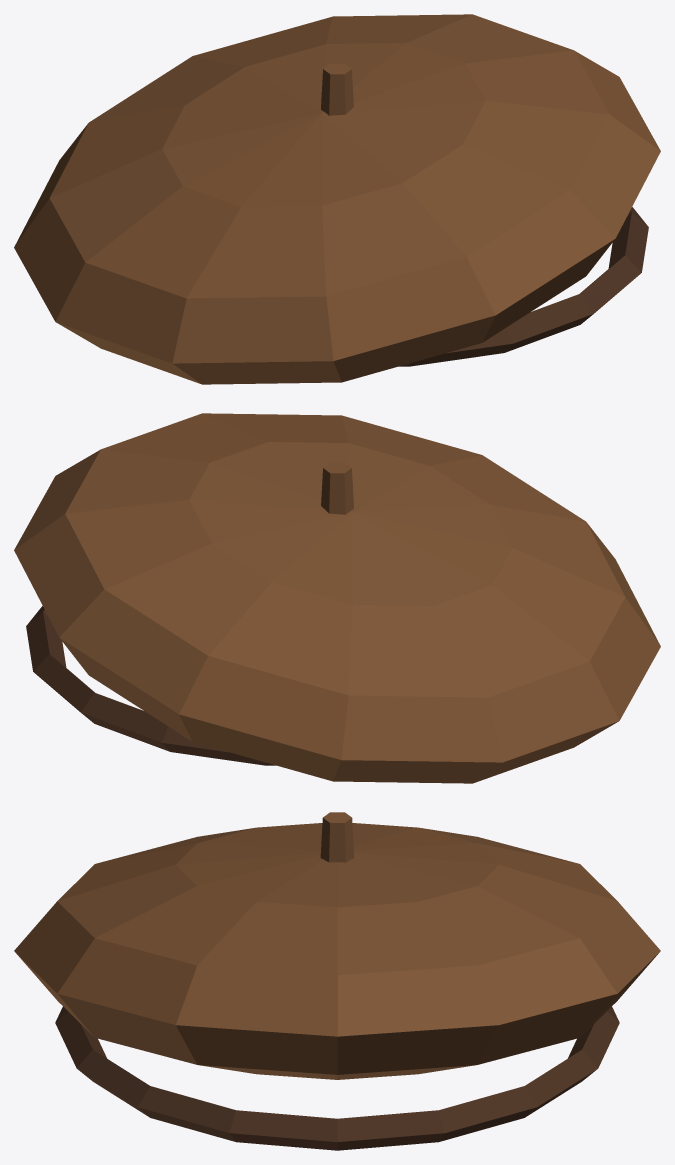
The model's file is disguise_chess_beret.glb.
3 views of the same model, one above another, from view 1: azimuth 30°, elevation 25°; view 2: azimuth 150°, elevation 25°; view 3: azimuth 270°, elevation 25° (orthographic). The views are drawn at different scales.
Parts seen in each view (by area): view 1: beret_chess_brown, band_chess_band, stalk_chess_brown; view 2: beret_chess_brown, band_chess_band, stalk_chess_brown; view 3: beret_chess_brown, band_chess_band, stalk_chess_brown.
Boxes of the visible parts, x1,y1,x2,y2 form: beret_chess_brown: (14, 14, 660, 384); band_chess_band: (399, 207, 648, 366); stalk_chess_brown: (321, 63, 353, 115); beret_chess_brown: (14, 413, 660, 783); band_chess_band: (26, 606, 275, 765); stalk_chess_brown: (321, 462, 353, 514); beret_chess_brown: (14, 823, 660, 1079); band_chess_band: (55, 1006, 619, 1150); stalk_chess_brown: (320, 812, 354, 862).
Bounding box in the file's own units: 0.4526 × 0.1802 × 0.44.
